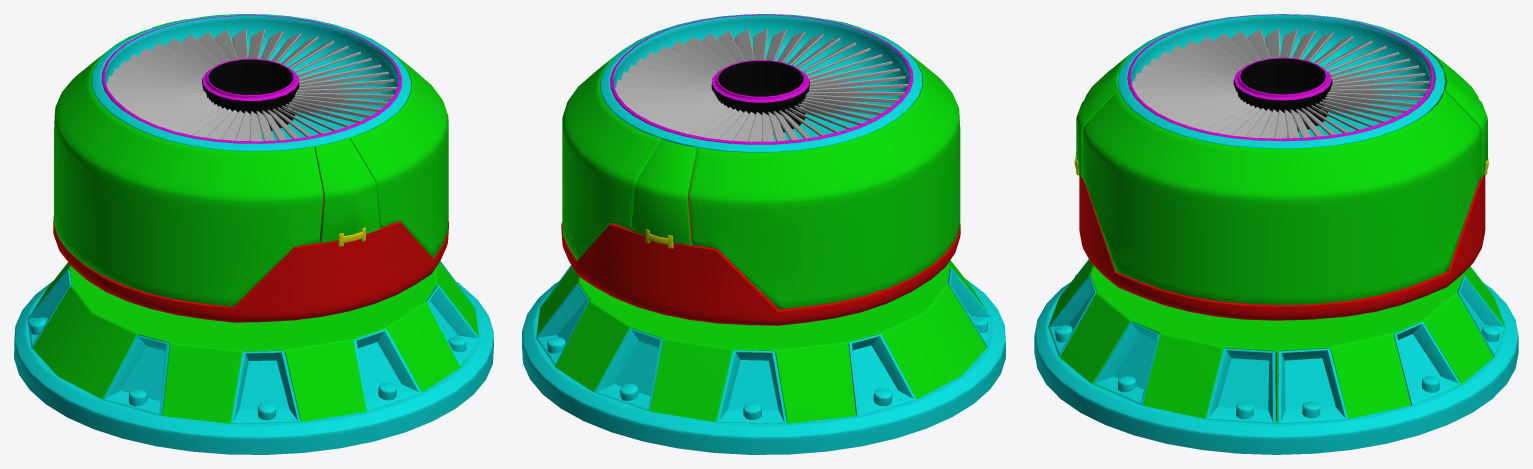
File: Sci_fi_Fan_Vent.fbx
3 renders of one model, left to right at view 1: azimuth 30°, elevation 25°; view 2: azimuth 150°, elevation 25°; view 3: azimuth 270°, elevation 25°, orthographic.
Visible parts, largest first — view 1: Fan_Base, Fan_Blades; view 2: Fan_Base, Fan_Blades; view 3: Fan_Base, Fan_Blades.
Boxes of the visible parts, left/top/right/bottom form: Fan_Base: left=14, top=14, right=493, bottom=454; Fan_Blades: left=106, top=29, right=397, bottom=141; Fan_Base: left=522, top=14, right=1005, bottom=454; Fan_Blades: left=615, top=29, right=908, bottom=156; Fan_Base: left=1034, top=14, right=1518, bottom=454; Fan_Blades: left=1132, top=29, right=1429, bottom=138.
Size of the model in its own units: 119 by 75.2 by 119.
